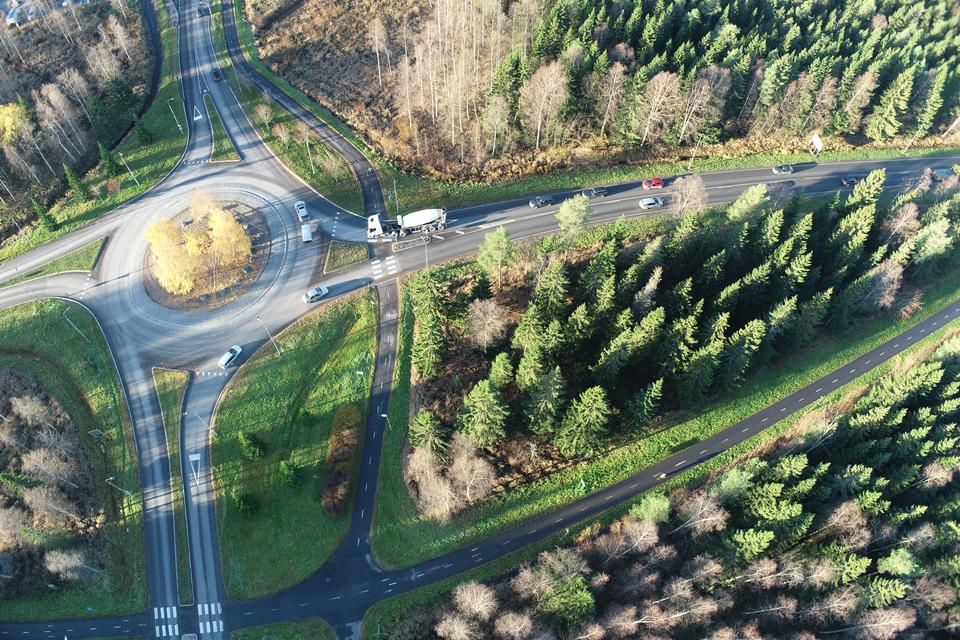intersection: (114, 587, 269, 640), (354, 197, 416, 326)
roundabout: (65, 138, 343, 408)
